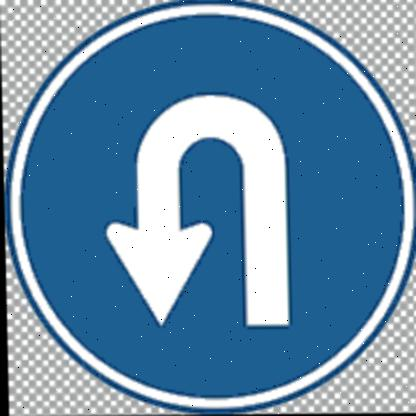U-turn: (7, 3, 416, 416)
